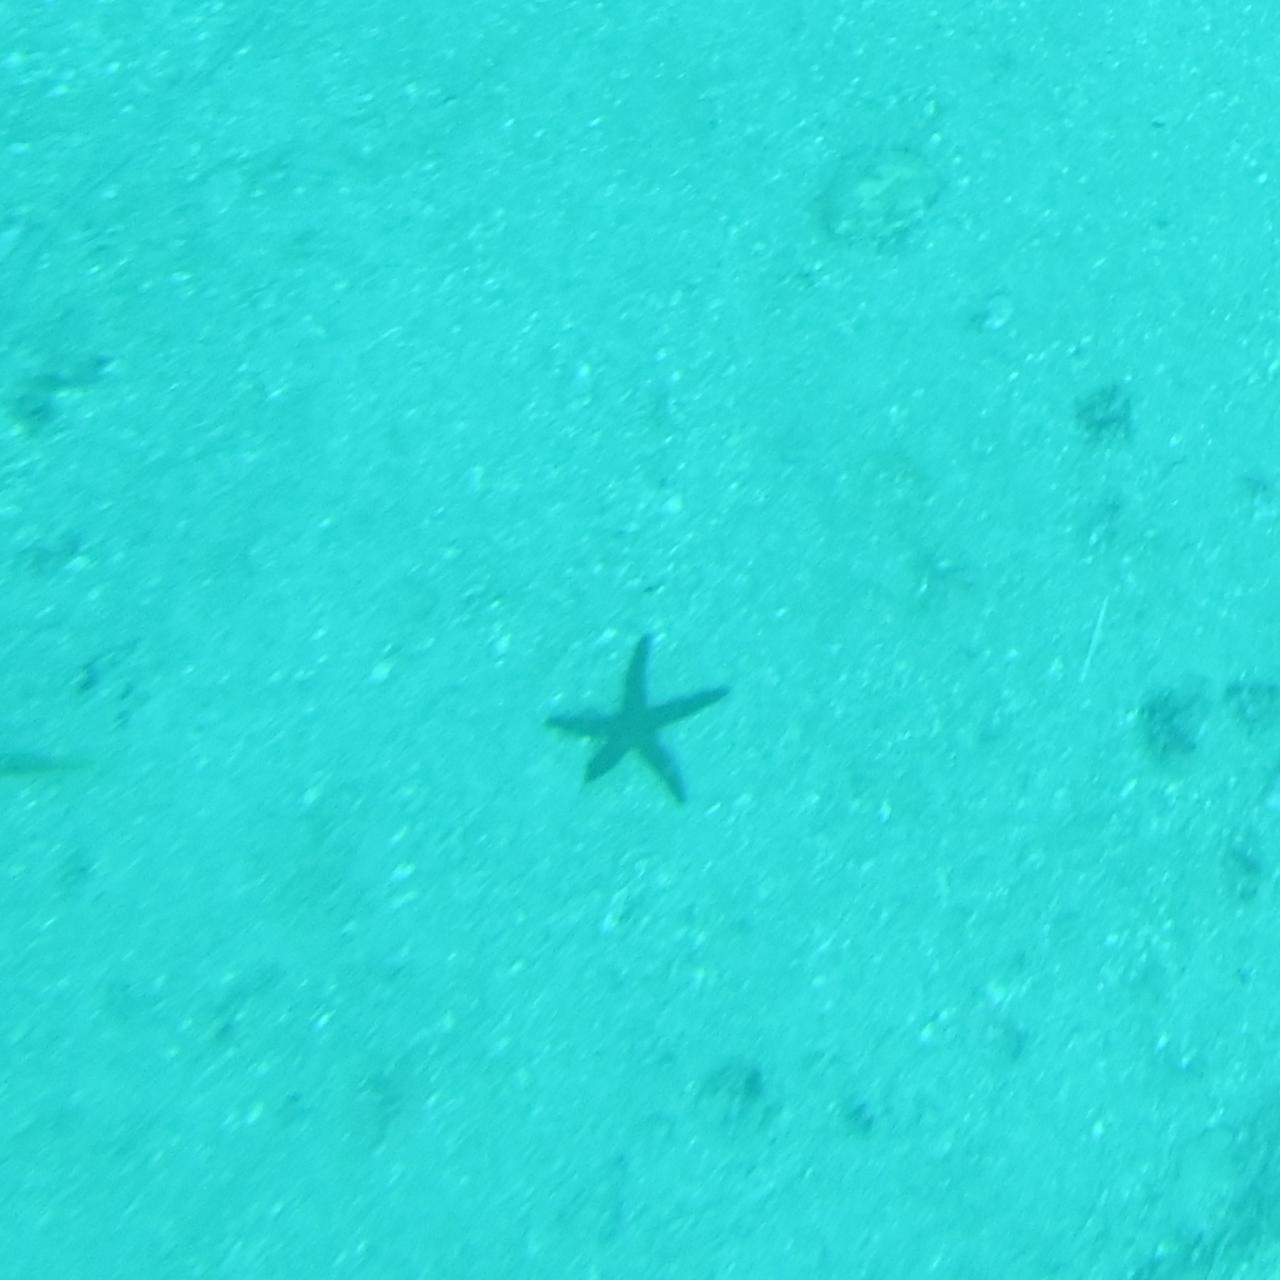Asteroidea: (531, 635, 749, 811)
